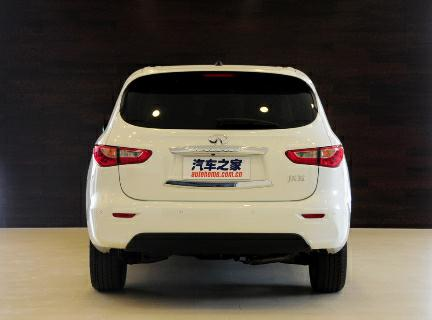英菲尼迪-JX: (80, 58, 356, 293)
